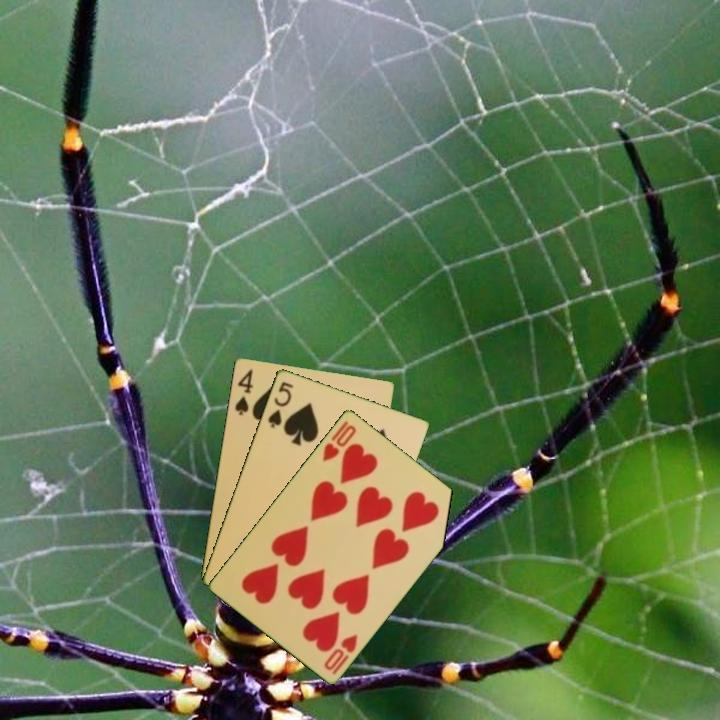10h: (320, 630, 361, 677), (319, 416, 359, 464)
4s: (231, 365, 256, 418)
5s: (264, 378, 296, 431)
